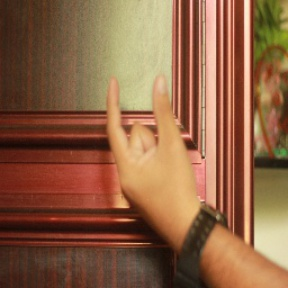U: (97, 68, 196, 209)
